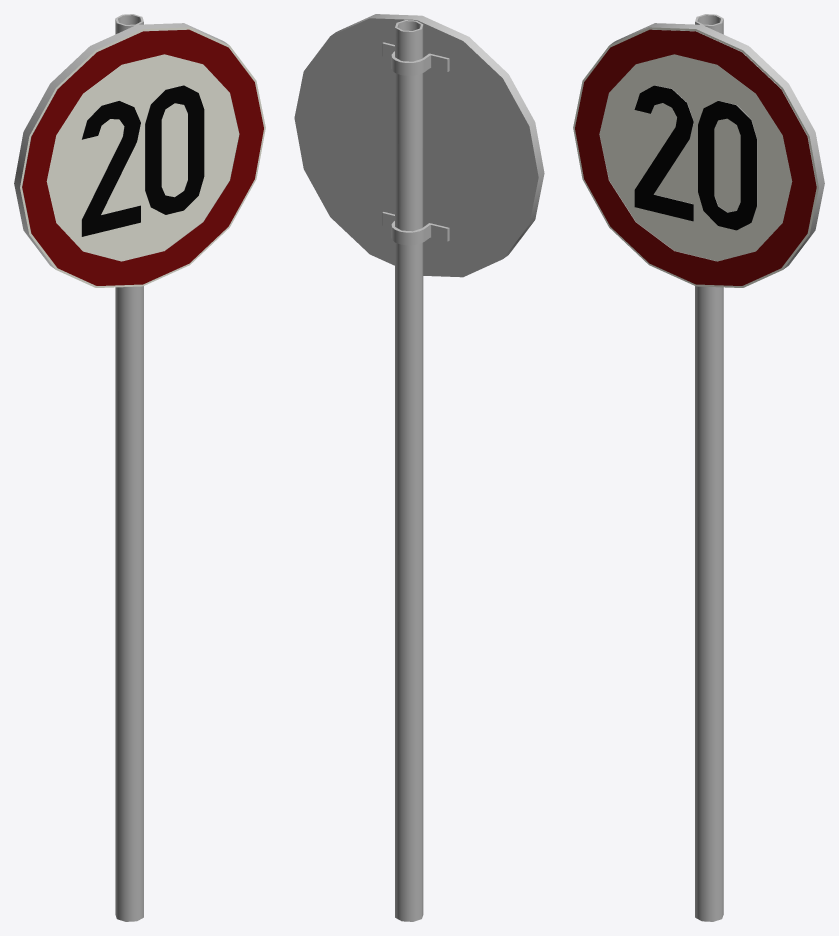
Rendered from 20_alt.obj.
3 renders of one model, left to right at view 1: azimuth 30°, elevation 25°; view 2: azimuth 150°, elevation 25°; view 3: azimuth 330°, elevation 25°, orthographic.
Parts seen in each view (by area): view 1: 20; view 2: 20; view 3: 20.
Part boxes in pixels (x1=…): 20: x1=14, y1=14, x2=265, y2=921; 20: x1=294, y1=14, x2=544, y2=921; 20: x1=573, y1=14, x2=824, y2=921.
Bounding box in the file's own units: 603 × 2102 × 95.5.
